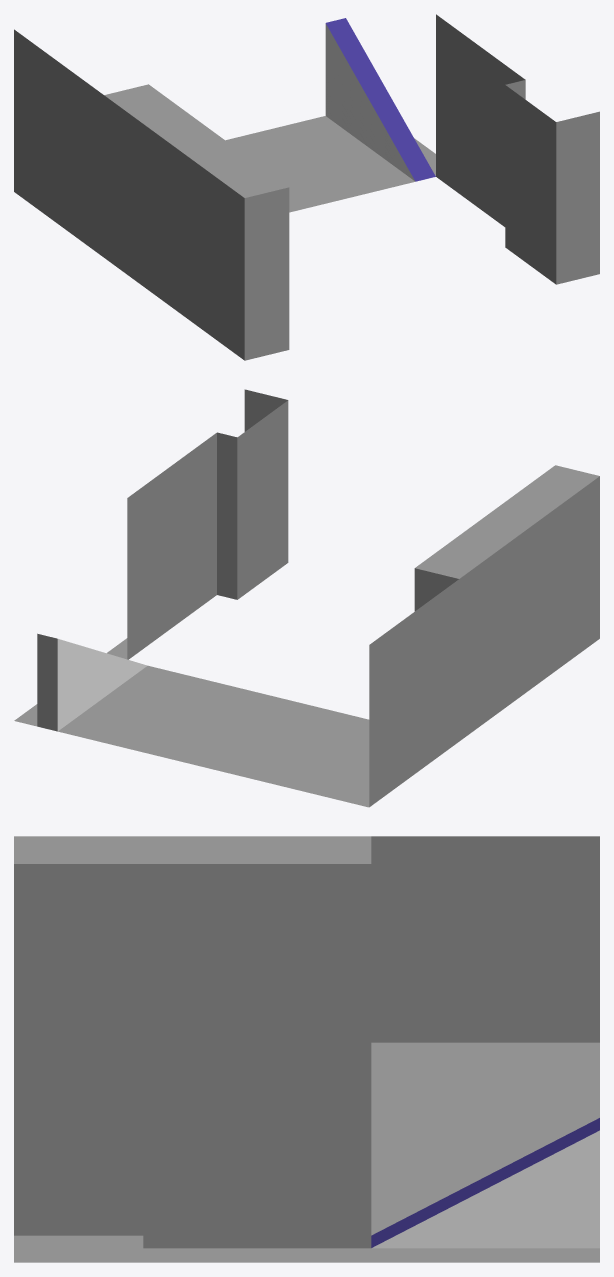
The model's file is C1 Mountains.obj.
3 views of the same model, one above another, from view 1: azimuth 30°, elevation 25°; view 2: azimuth 150°, elevation 25°; view 3: azimuth 270°, elevation 25° (orthographic). The views are drawn at different scales.
Parts seen in each view (by area): view 1: Mesh1 Model; view 2: Mesh1 Model; view 3: Mesh1 Model.
Part boxes in pixels (<box>): Mesh1 Model: <box>14,14,599,360</box>; Mesh1 Model: <box>14,389,599,807</box>; Mesh1 Model: <box>14,836,599,1262</box>.
Bounding box in the file's own units: 16.01 × 7 × 18.01.
